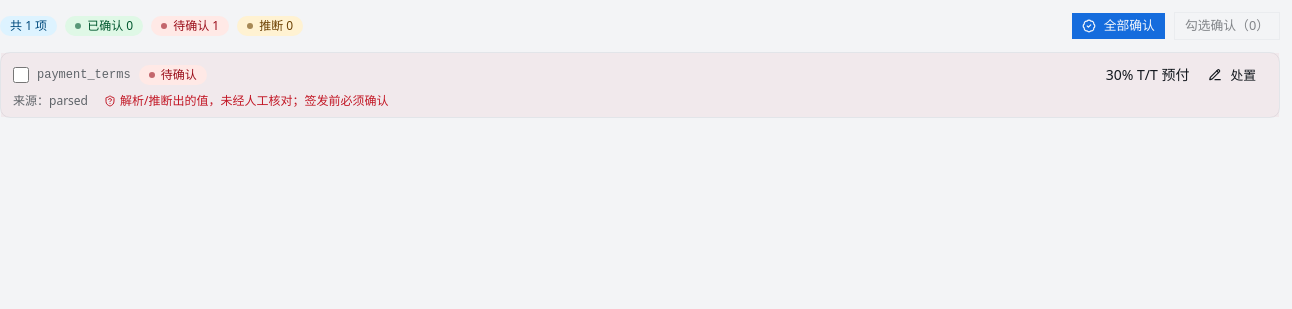
it: DocFactsPanel · 未确认 → 确认 → summary 变化 › 处置表单只给双语/证据/不可改写 —— value 不给编辑入口
Step 1. Click the button "处置" → point(1232, 75), box top-left (1197, 61), bottom-right (1267, 89)
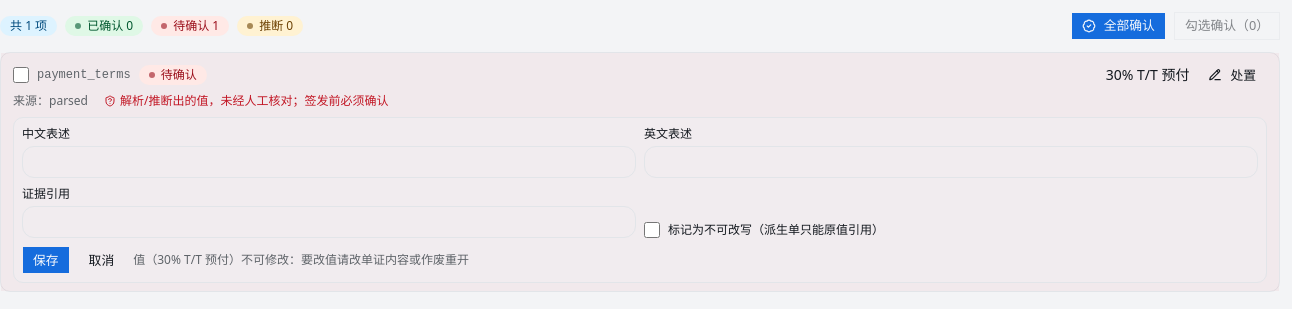
Check: the text "不可修改" is shown, box top-left (229, 251), bottom-right (469, 268)
